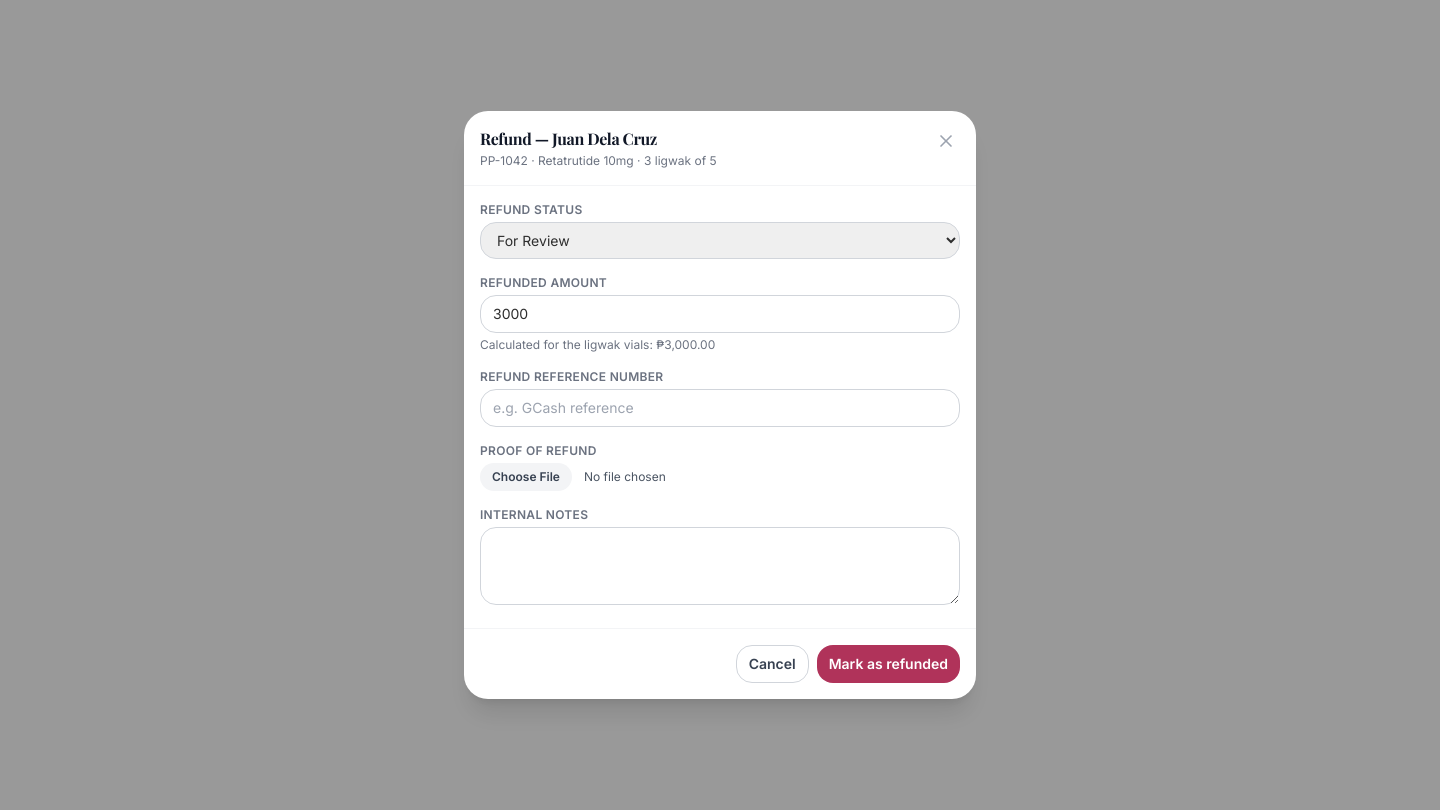
LigwakRefundModal › refuses to record a refund of zero
The image size is (1440, 810).
Replace the text in the number field labelled "Refunded amount" with "0": [720, 314] box [480, 295, 960, 333]
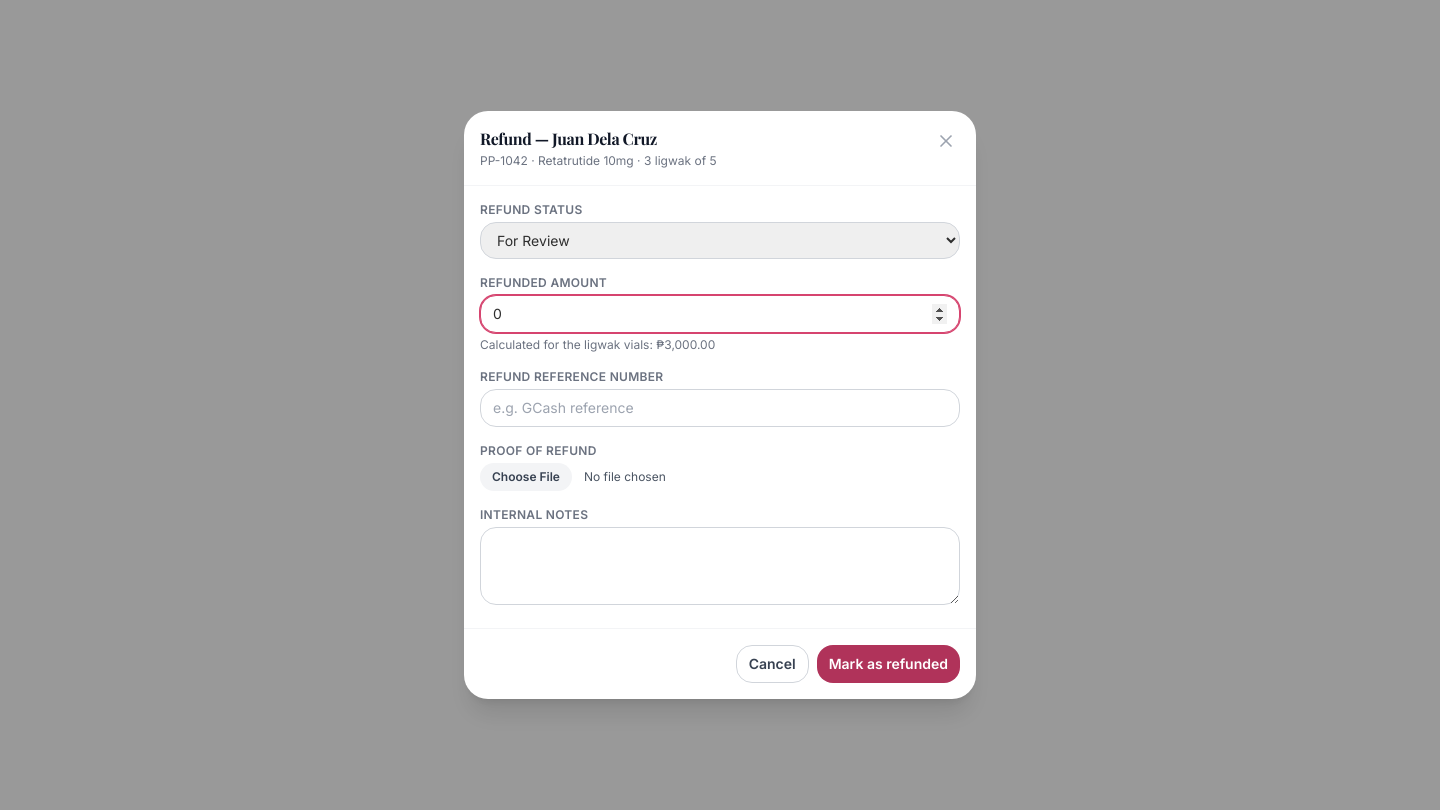
Click the button "Mark as refunded": [888, 664] box [817, 645, 960, 683]
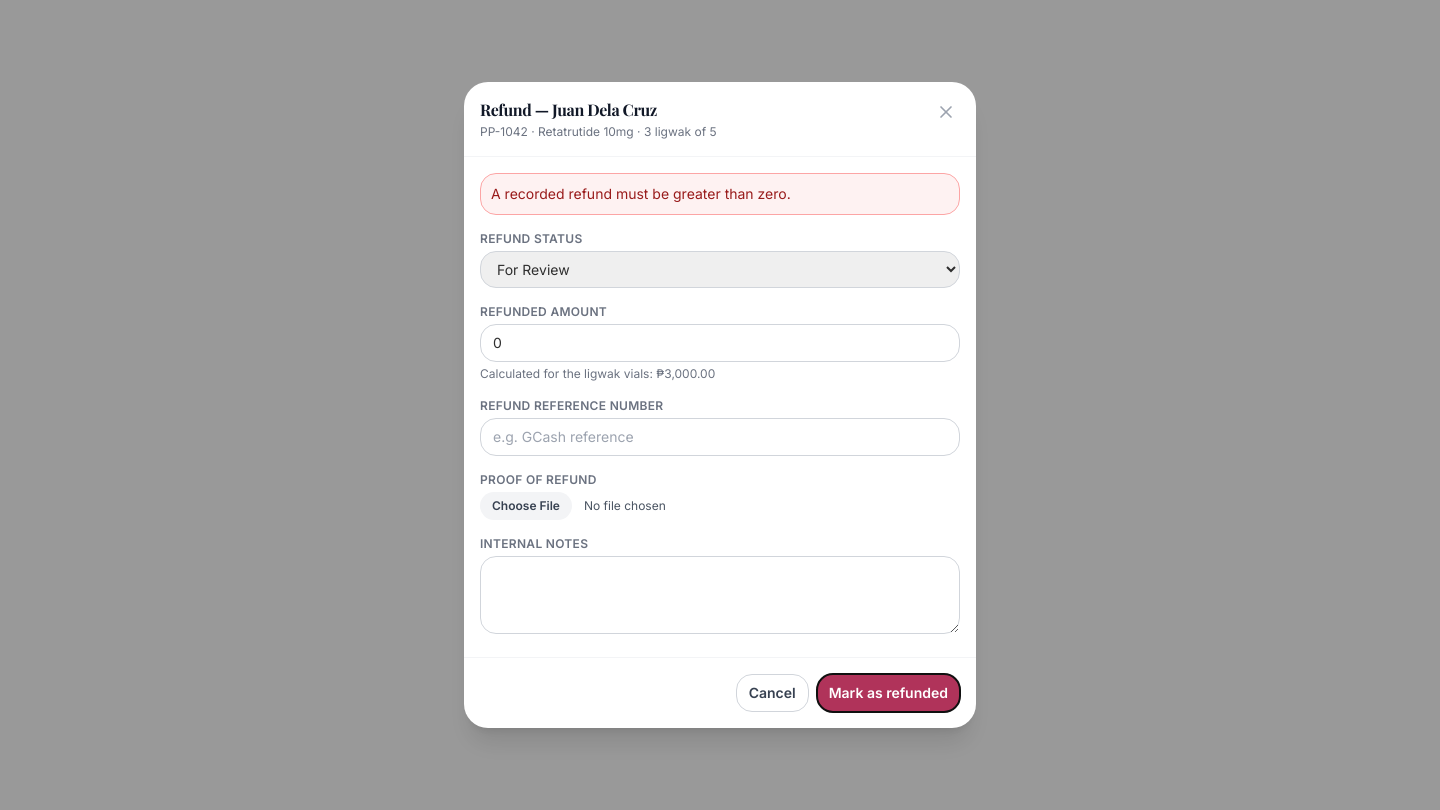
Result: the message shows "greater than zero" at [491, 185, 791, 202]
